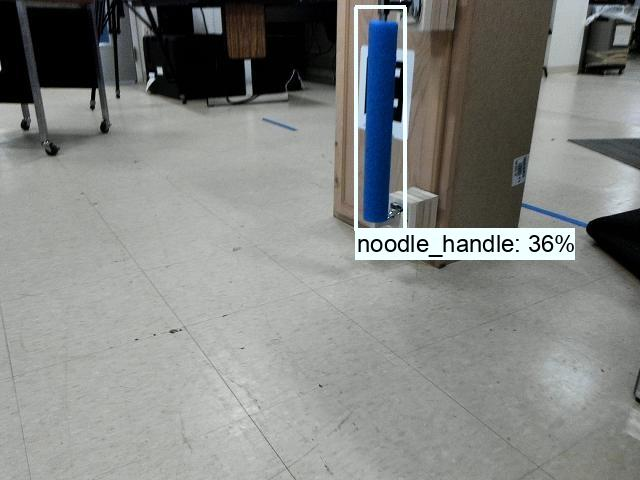noodle_handle: (358, 9, 402, 231)
